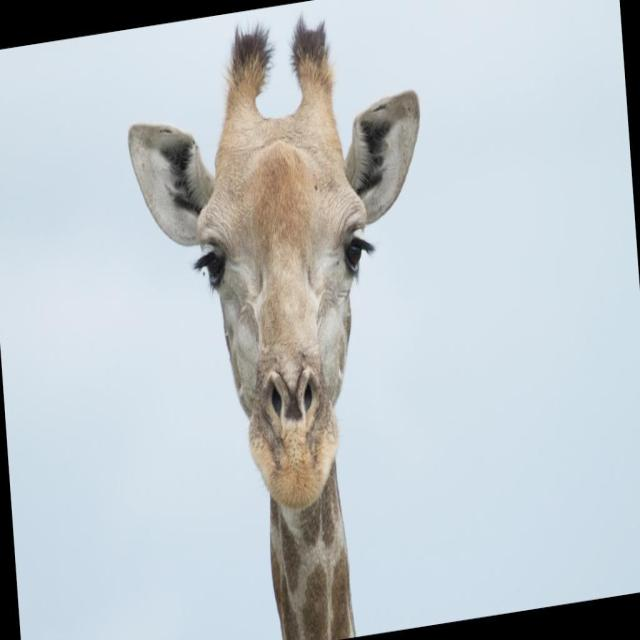Giraffe: (122, 16, 432, 636)
